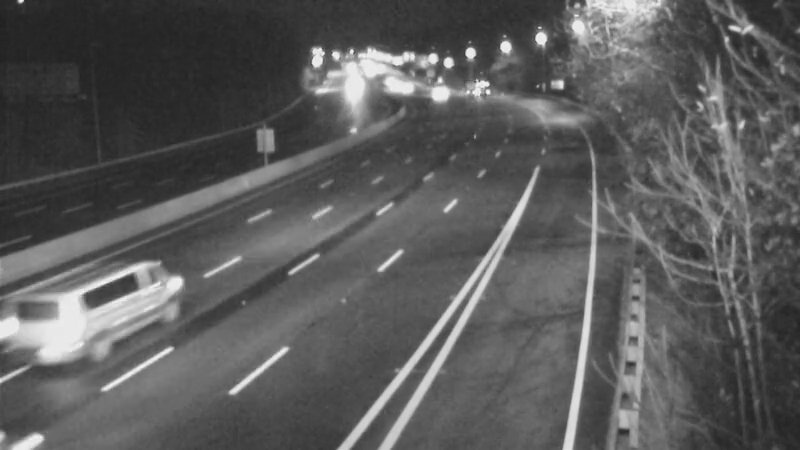vehicle: (42, 266, 152, 376), (452, 66, 502, 116), (408, 67, 458, 117), (327, 70, 377, 120)
